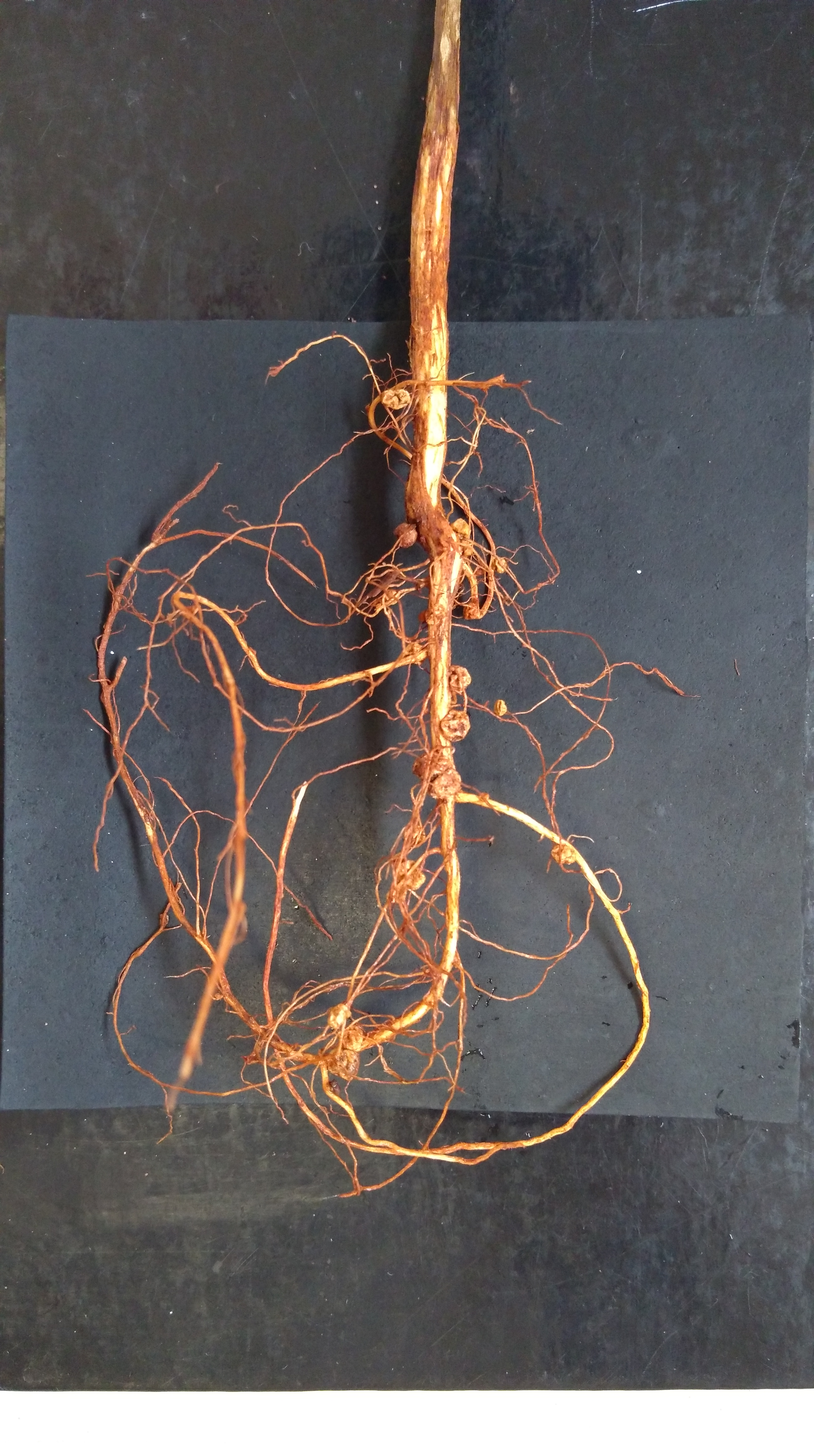nodule: (436, 708, 473, 744), (409, 748, 450, 780), (325, 1046, 361, 1082), (429, 768, 463, 800), (396, 858, 427, 893), (334, 1023, 365, 1054), (397, 822, 430, 849), (391, 520, 419, 551), (447, 662, 472, 696), (547, 843, 580, 868), (324, 1002, 353, 1030), (380, 388, 412, 411), (449, 516, 472, 540), (460, 599, 481, 622), (405, 641, 425, 663), (492, 555, 507, 577), (493, 698, 509, 718), (384, 590, 398, 604), (462, 545, 473, 556)
